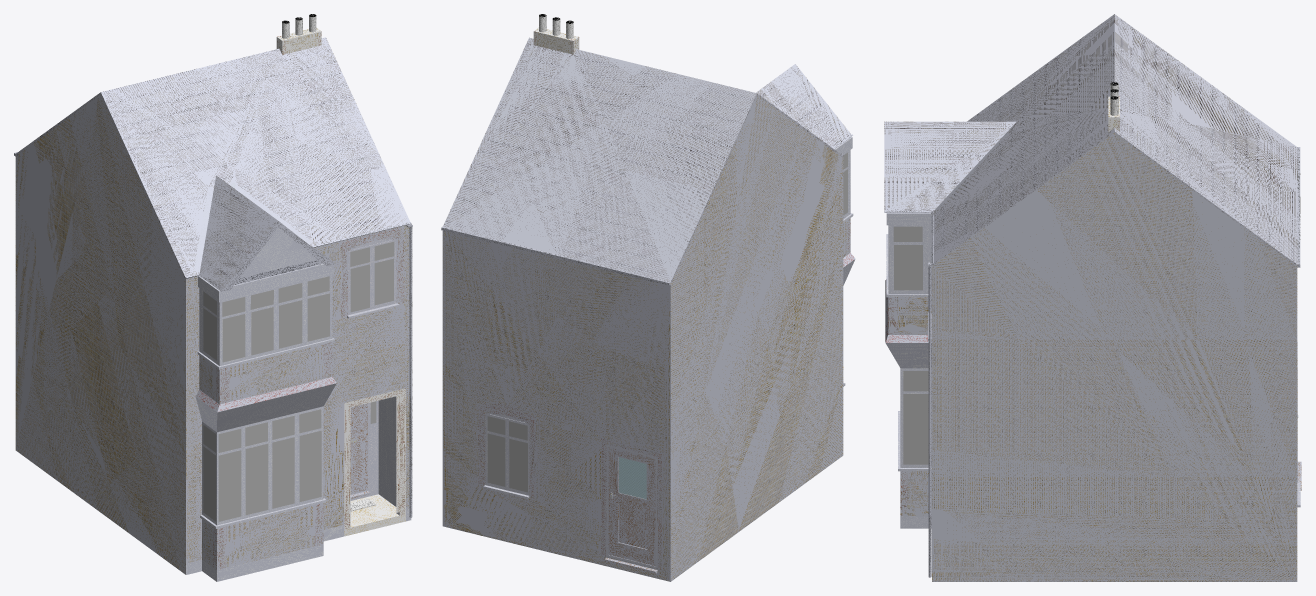
Rendered from victorianhouse.glb.
The picture shows the model from 3 angles, left to right: view 1: azimuth 30°, elevation 25°; view 2: azimuth 150°, elevation 25°; view 3: azimuth 270°, elevation 25°; orthographic projection. The views are drawn at different scales.
Visible parts, largest first — view 1: SketchUp.035, SketchUp.039, SketchUp, SketchUp.034, SketchUp.053, SketchUp.031, SketchUp.082, SketchUp.052, SketchUp.046, SketchUp.047, SketchUp.045, SketchUp.080 (+21 smaller); view 2: SketchUp.035, SketchUp.039, SketchUp.096, SketchUp.114, SketchUp.115, SketchUp.108, SketchUp.103, SketchUp.069, SketchUp.098, SketchUp.112, SketchUp.111, SketchUp.100 (+2 smaller); view 3: SketchUp.035, SketchUp.039, SketchUp, SketchUp.081, SketchUp.092, SketchUp.068, SketchUp.044, SketchUp.050.
Boxes of the visible parts, x1,y1,x2,y2 form: SketchUp.035: [15, 94, 409, 574]; SketchUp.039: [15, 37, 409, 290]; SketchUp: [186, 263, 411, 581]; SketchUp.034: [226, 505, 314, 567]; SketchUp.053: [230, 344, 322, 401]; SketchUp.031: [344, 388, 405, 528]; SketchUp.082: [341, 225, 403, 318]; SketchUp.052: [240, 228, 317, 278]; SketchUp.046: [245, 444, 268, 515]; SketchUp.047: [218, 450, 241, 521]; SketchUp.045: [272, 437, 294, 508]; SketchUp.080: [299, 430, 321, 501]; SketchUp.035: [442, 95, 846, 581]; SketchUp.039: [443, 37, 851, 282]; SketchUp.096: [608, 447, 655, 565]; SketchUp.114: [478, 403, 536, 498]; SketchUp.115: [601, 438, 662, 569]; SketchUp.108: [483, 413, 529, 498]; SketchUp.103: [618, 503, 647, 548]; SketchUp.069: [441, 226, 670, 285]; SketchUp.098: [619, 457, 646, 499]; SketchUp.112: [509, 439, 527, 492]; SketchUp.111: [487, 433, 505, 486]; SketchUp.100: [606, 444, 657, 568]; SketchUp.035: [898, 133, 1297, 581]; SketchUp.039: [884, 14, 1297, 265]; SketchUp: [885, 213, 931, 528]; SketchUp.081: [903, 394, 928, 464]; SketchUp.092: [894, 245, 922, 290]; SketchUp.068: [928, 266, 931, 577]; SketchUp.044: [903, 371, 928, 391]; SketchUp.050: [885, 279, 931, 342].
Size of the model in its own units: 3.48 by 6.58 by 5.22.
Materials: 28 (10 with a texture image).
